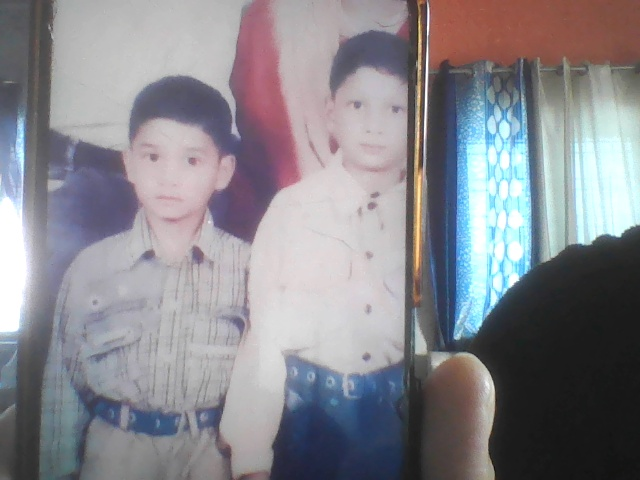fake: (124, 80, 232, 233)
